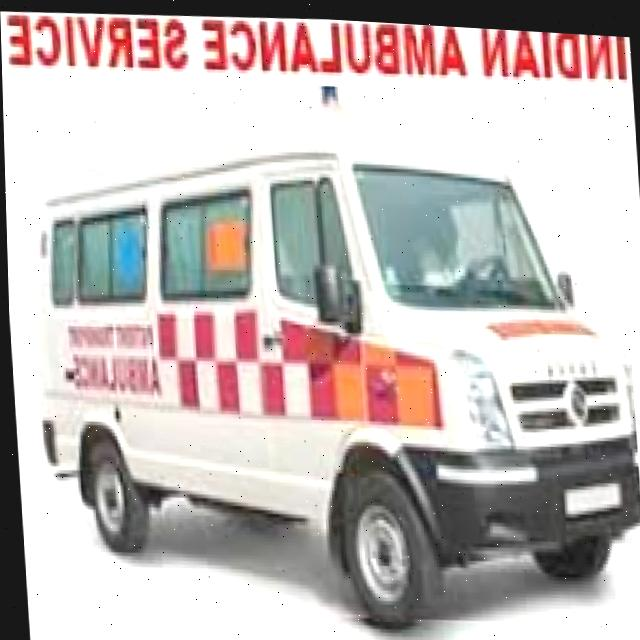Ambulance: (14, 60, 640, 640)
